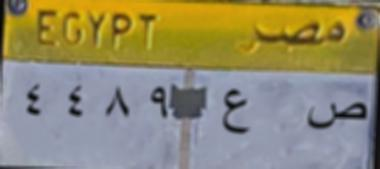4: (21, 81, 46, 120), (64, 83, 86, 123)
8: (105, 84, 130, 123)
9: (148, 80, 171, 126)
ain: (220, 82, 250, 140)
saad: (302, 95, 367, 134)
